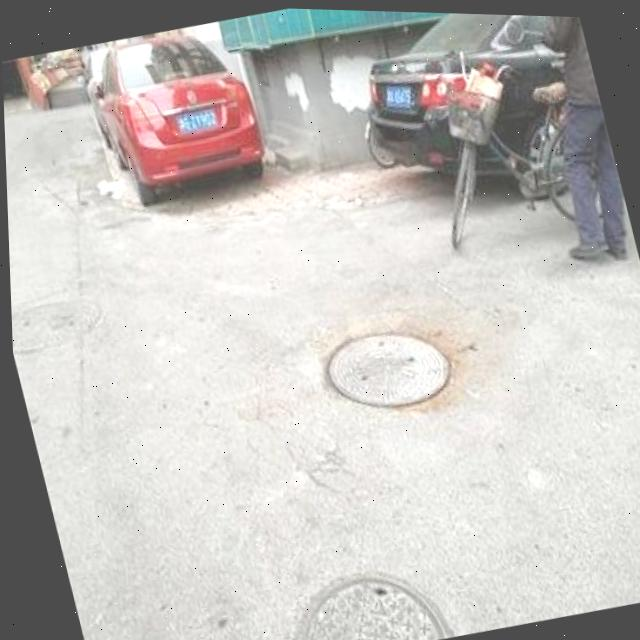manhole: (297, 289, 464, 422)
